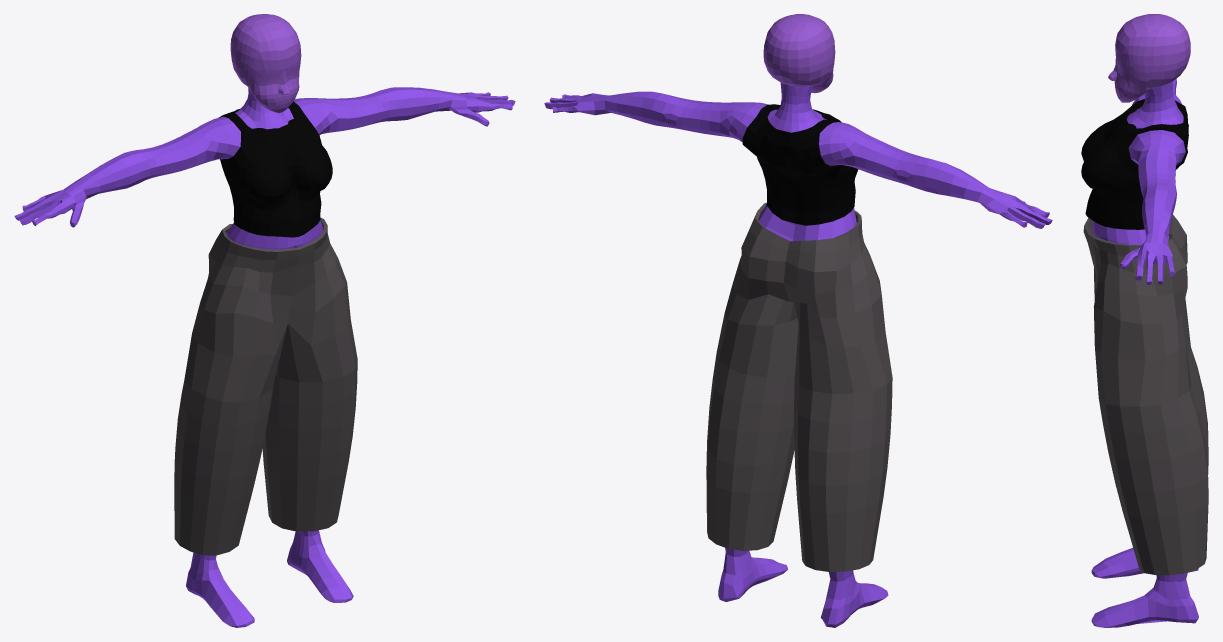
File: BasicPerson.fbx
3 views of the same model, side by side, from view 1: azimuth 30°, elevation 25°; view 2: azimuth 150°, elevation 25°; view 3: azimuth 270°, elevation 25° (orthographic).
Parts seen in each view (by area): view 1: Pants, RetopBody, Tank, Retop_Head; view 2: Pants, RetopBody, Tank, Retop_Head; view 3: Pants, RetopBody, Tank, Retop_Head.
Boxes of the visible parts, box(x1,y1,x2,y2) form: Pants: box(174, 217, 357, 555); RetopBody: box(14, 87, 515, 627); Tank: box(218, 101, 332, 237); Retop_Head: box(230, 14, 301, 112); Pants: box(706, 202, 892, 571); RetopBody: box(544, 83, 1052, 627); Tank: box(742, 104, 858, 225); Retop_Head: box(763, 14, 835, 93); Pants: box(1083, 215, 1208, 575); RetopBody: box(1091, 79, 1198, 627); Tank: box(1081, 99, 1188, 229); Retop_Head: box(1108, 14, 1190, 102).
Size of the model in its own units: 1348 by 1500 by 298.
